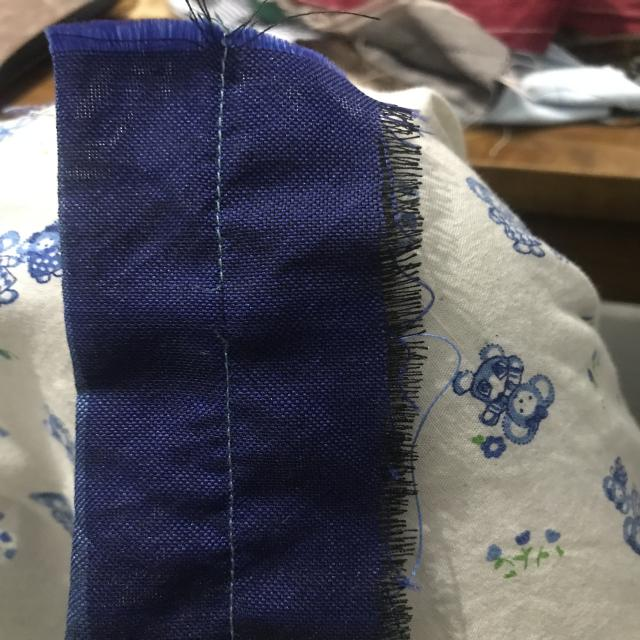broken: (198, 256, 251, 367)
good: (204, 124, 251, 224)
